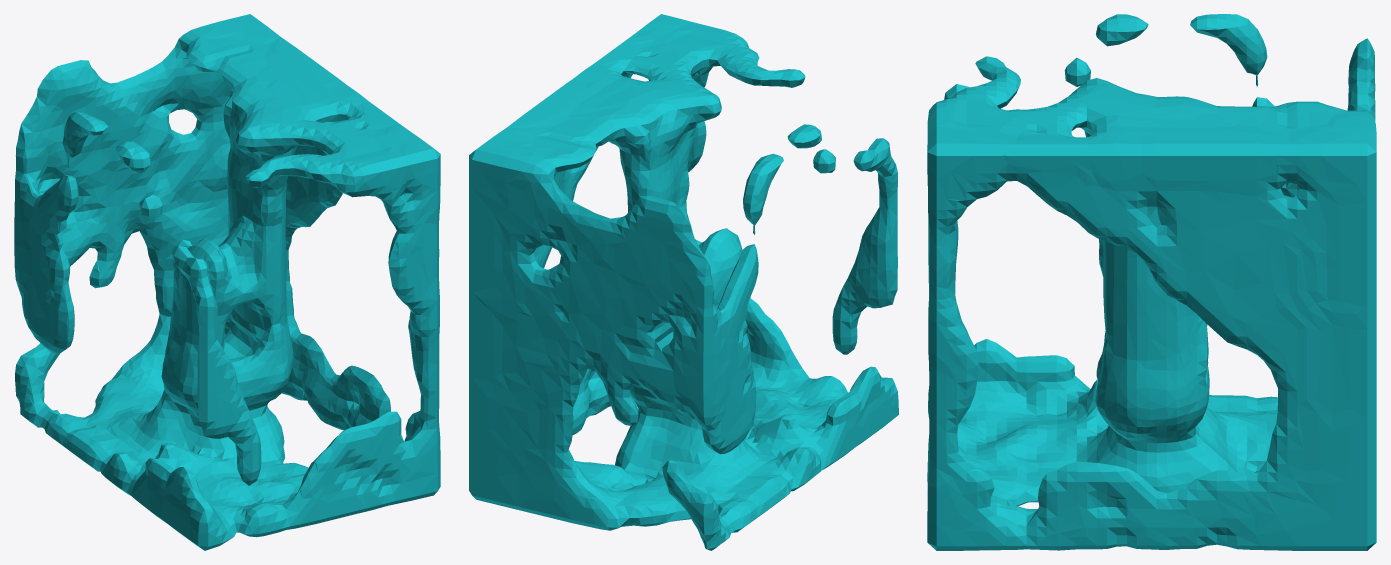
The picture shows the model from 3 angles, left to right: view 1: azimuth 30°, elevation 25°; view 2: azimuth 150°, elevation 25°; view 3: azimuth 270°, elevation 25°; orthographic projection. The views are drawn at different scales.
Parts seen in each view (by area): view 1: Liquid_Domain; view 2: Liquid_Domain; view 3: Liquid_Domain.
Boxes of the visible parts, box(x1,y1,x2,y2) form: Liquid_Domain: box(14, 14, 440, 550); Liquid_Domain: box(469, 14, 898, 550); Liquid_Domain: box(927, 14, 1376, 550).
Size of the model in its own units: 79.12 by 108 by 108.
